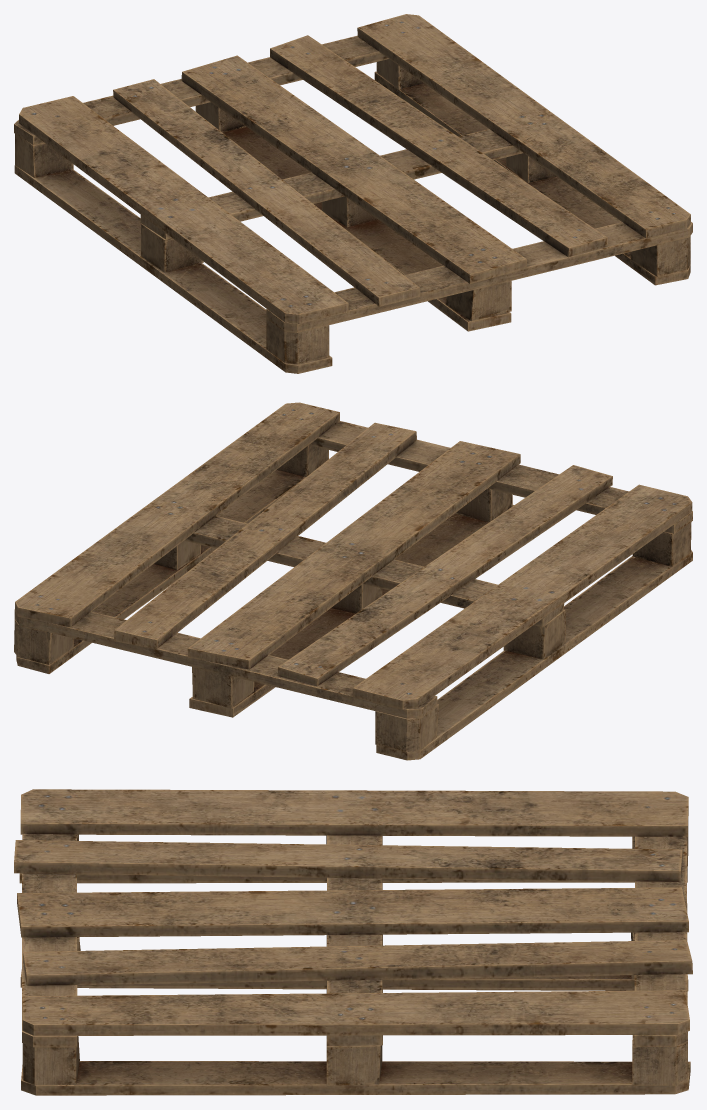
Rendered from wooden_pallet.fbx.
3 renders of one model, top to bottom at view 1: azimuth 30°, elevation 25°; view 2: azimuth 150°, elevation 25°; view 3: azimuth 270°, elevation 25°, orthographic. The views are drawn at different scales.
Visible parts, largest first — view 1: polySurface4, polySurface5, polySurface13, polySurface16, polySurface10, polySurface8, polySurface19, polySurface7, polySurface14, polySurface15, polySurface11, polySurface12 (+8 smaller); view 2: polySurface5, polySurface4, polySurface13, polySurface10, polySurface16, polySurface8, polySurface11, polySurface14, polySurface7, polySurface19, polySurface15, polySurface9 (+8 smaller); view 3: polySurface5, polySurface4, polySurface13, polySurface16, polySurface10, polySurface14, polySurface7, polySurface19, polySurface15, polySurface11, polySurface8, polySurface20 (+2 smaller).
Part boxes in pixels (x1=…): polySurface4: x1=181, y1=55, x2=526, y2=283; polySurface5: x1=19, y1=96, x2=348, y2=323; polySurface13: x1=357, y1=14, x2=690, y2=238; polySurface16: x1=270, y1=35, x2=607, y2=257; polySurface10: x1=113, y1=79, x2=420, y2=306; polySurface8: x1=14, y1=165, x2=332, y2=373; polySurface19: x1=266, y1=222, x2=692, y2=332; polySurface7: x1=223, y1=127, x2=511, y2=331; polySurface14: x1=374, y1=71, x2=690, y2=285; polySurface15: x1=140, y1=129, x2=522, y2=239; polySurface11: x1=14, y1=35, x2=388, y2=144; polySurface12: x1=266, y1=318, x2=329, y2=364; polySurface5: x1=352, y1=484, x2=692, y2=709; polySurface4: x1=187, y1=441, x2=520, y2=669; polySurface13: x1=15, y1=402, x2=339, y2=627; polySurface10: x1=277, y1=465, x2=612, y2=686; polySurface16: x1=114, y1=422, x2=416, y2=648; polySurface8: x1=376, y1=550, x2=692, y2=760; polySurface11: x1=14, y1=609, x2=437, y2=718; polySurface14: x1=16, y1=470, x2=305, y2=673; polySurface7: x1=189, y1=505, x2=513, y2=717; polySurface19: x1=309, y1=421, x2=692, y2=533; polySurface15: x1=184, y1=516, x2=564, y2=627; polySurface9: x1=375, y1=704, x2=438, y2=751; polySurface5: x1=20, y1=789, x2=688, y2=836; polySurface4: x1=17, y1=887, x2=688, y2=937; polySurface13: x1=22, y1=990, x2=689, y2=1035; polySurface16: x1=23, y1=940, x2=692, y2=985; polySurface10: x1=14, y1=840, x2=682, y2=881; polySurface14: x1=21, y1=1061, x2=690, y2=1095; polySurface7: x1=20, y1=969, x2=688, y2=990; polySurface19: x1=22, y1=834, x2=77, y2=1047; polySurface15: x1=326, y1=835, x2=382, y2=1046; polySurface11: x1=634, y1=836, x2=687, y2=1046; polySurface8: x1=19, y1=873, x2=687, y2=883; polySurface20: x1=326, y1=1045, x2=382, y2=1085.
Bounding box in the file's own units: 10079 × 1441 × 12205.
Materials: 1 (1 with a texture image).
